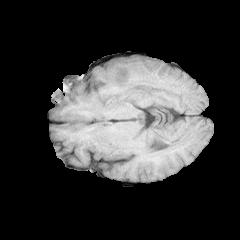glioma: (91, 56, 168, 105)
